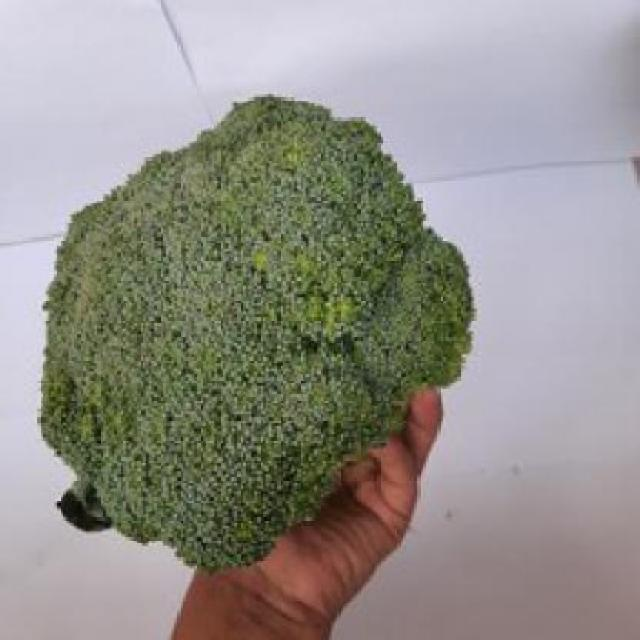broccoli: (41, 97, 480, 565)
